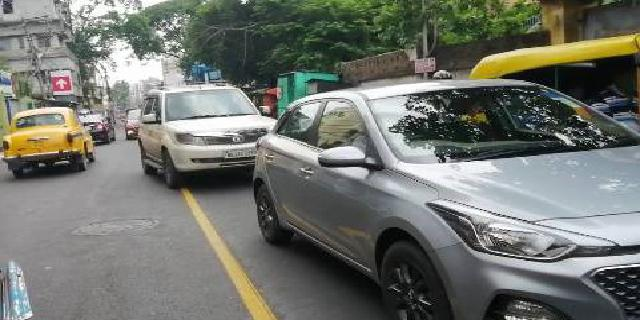Car: (251, 74, 640, 317), (138, 85, 278, 191), (2, 108, 93, 177), (80, 112, 119, 145)
